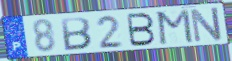2: (95, 15, 124, 50)
8: (31, 18, 57, 54)
B: (60, 16, 93, 52), (126, 12, 158, 48)
M: (156, 8, 195, 46)
N: (189, 6, 224, 44)
